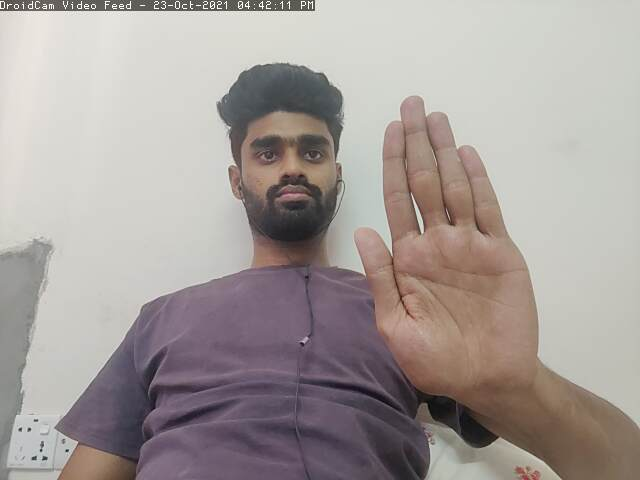Stop: (349, 94, 554, 404)
